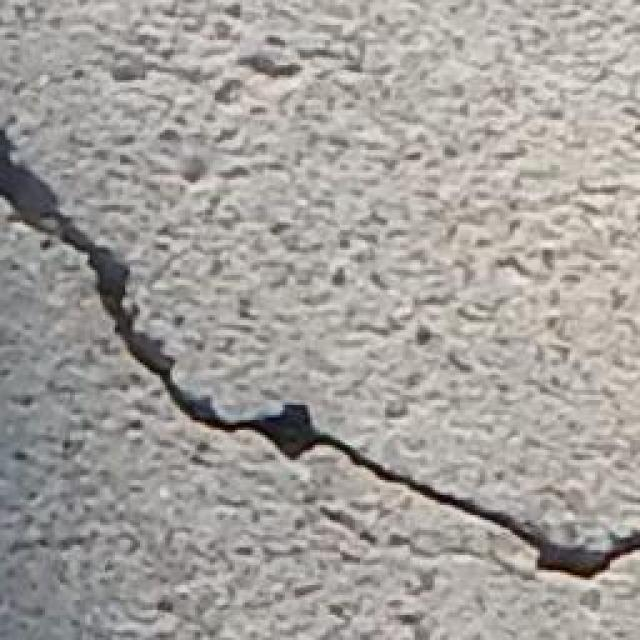concrete-crack: (1, 128, 639, 588)
